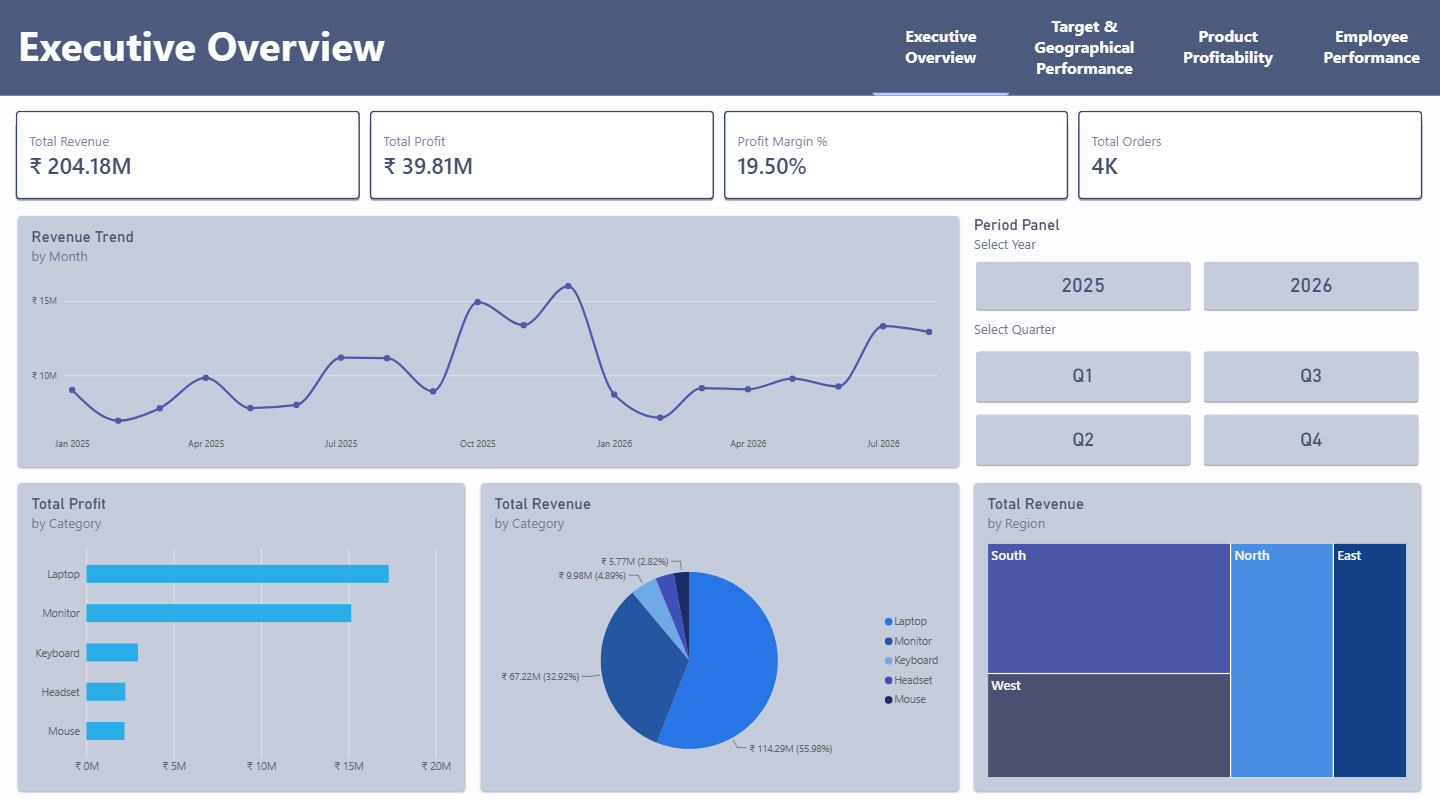

This screenshot's page, from the dashboard's own definition file:
{"tool":"powerbi","page":{"name":"Executive Overview","canvas":[1920,1080],"ordinal":0},"visuals":[{"type":"shape","box":[0,0,1920.6,130.3],"z":0},{"type":"cardVisual","fields":{"Data":["tblFactSales.TotalNet","tblFactSales.TotalProfit","tblFactSales.Margin%","tblFactSales.TotalOrder"]},"box":[16,142.3,1887.3,133],"z":1000},{"type":"lineChart","title":"Revenue Trend","fields":{"Category":["tblDimDate.YearMonth"],"Y":["tblFactSales.TotalNet"]},"box":[26.3,290.3,1251.8,334.1],"z":2000},{"type":"treemap","fields":{"Group":["tblDimRegion.Region"],"Values":["tblFactSales.TotalNet"]},"box":[1298.5,644.9,593.8,410],"z":3000},{"type":"pieChart","title":"Total Revenue","fields":{"Category":["tblDimProduct.Category"],"Y":["tblFactSales.TotalNet"]},"box":[641.9,644.9,636.1,410],"z":4000},{"type":"barChart","title":"Total Profit","fields":{"Category":["tblDimProduct.Category"],"Y":["tblFactSales.TotalProfit"]},"box":[26.3,644.9,593.8,410],"z":5000},{"type":"advancedSlicerVisual","title":"Period Panel","fields":{"Values":["tblDimDate.Year"]},"box":[1298.1,290,594.5,127.7],"z":6000},{"type":"advancedSlicerVisual","fields":{"Values":["tblDimDate.Quarter"]},"box":[1298.1,428.3,594.5,195.5],"z":7000},{"type":"pageNavigator","box":[1162.5,0,758.1,130.3],"z":8000},{"type":"textbox","box":[26.6,25.3,732.9,117],"z":9000}]}

Visuals, with their boxes in screenshot pixels (x1, y1, x2, y2), scaled from the page's 1920x1080 canvas onto the 1440x800 screenshot:
shape: select_region(0, 0, 1439, 97)
cardVisual - tblFactSales.TotalNet x tblFactSales.TotalProfit: select_region(12, 105, 1427, 204)
"Revenue Trend" lineChart: select_region(20, 215, 959, 463)
treemap - tblDimRegion.Region x tblFactSales.TotalNet: select_region(974, 478, 1419, 781)
"Total Revenue" pieChart: select_region(481, 478, 958, 781)
"Total Profit" barChart: select_region(20, 478, 465, 781)
"Period Panel" advancedSlicerVisual: select_region(974, 215, 1419, 309)
advancedSlicerVisual - tblDimDate.Quarter: select_region(974, 317, 1419, 462)
pageNavigator: select_region(872, 0, 1439, 97)
textbox: select_region(20, 19, 570, 105)
